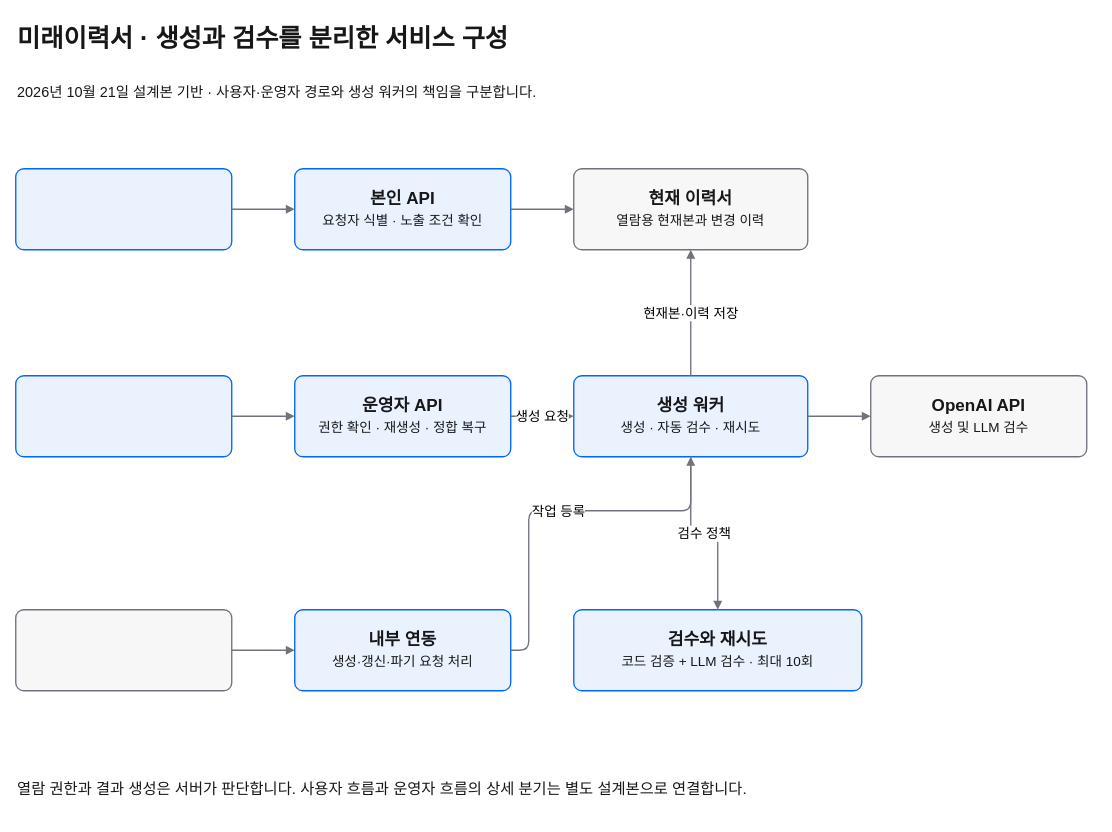
The diagram is 1112 pixels wide and 832 high, and some of its shapes have lost their labels. The shapes that lost their labels are listed below. From the top down, each one's centre as x and y in pixels, then its label:
the point at 123,209: 지원자 화면 열람 · PDF
the point at 123,416: 운영자 화면 현황 · 수정 · 템플릿
the point at 123,650: 지원·합불 변경 업무 이벤트 발행
